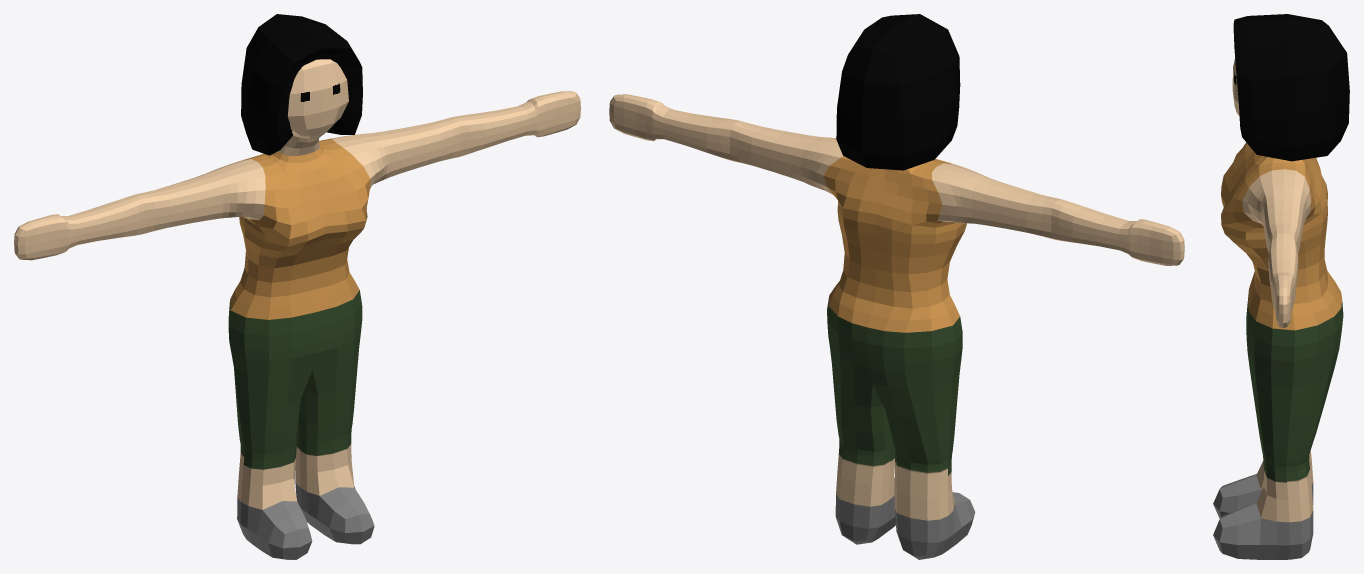
Rendered from TemplateWoman.obj.
The picture shows the model from 3 angles, left to right: view 1: azimuth 30°, elevation 25°; view 2: azimuth 150°, elevation 25°; view 3: azimuth 270°, elevation 25°; orthographic projection. The views are drawn at different scales.
Parts seen in each view (by area): view 1: Model_Cube, Hair.001_Cube.001; view 2: Model_Cube, Hair.001_Cube.001; view 3: Model_Cube, Hair.001_Cube.001.
Part boxes in pixels (x1=…): Model_Cube: x1=14, y1=59, x2=580, y2=559; Hair.001_Cube.001: x1=241, y1=14, x2=362, y2=155; Model_Cube: x1=609, y1=94, x2=1184, y2=559; Hair.001_Cube.001: x1=836, y1=14, x2=960, y2=170; Model_Cube: x1=1213, y1=58, x2=1343, y2=559; Hair.001_Cube.001: x1=1233, y1=14, x2=1349, y2=161.
Size of the model in its own units: 2.1 by 1.82 by 0.4296.
2 materials, 1 textured.
